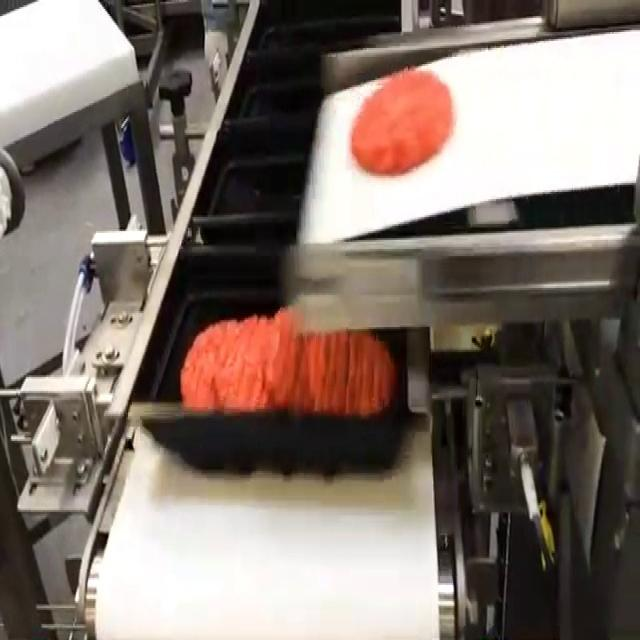4-hamburguer: (181, 308, 396, 414)
